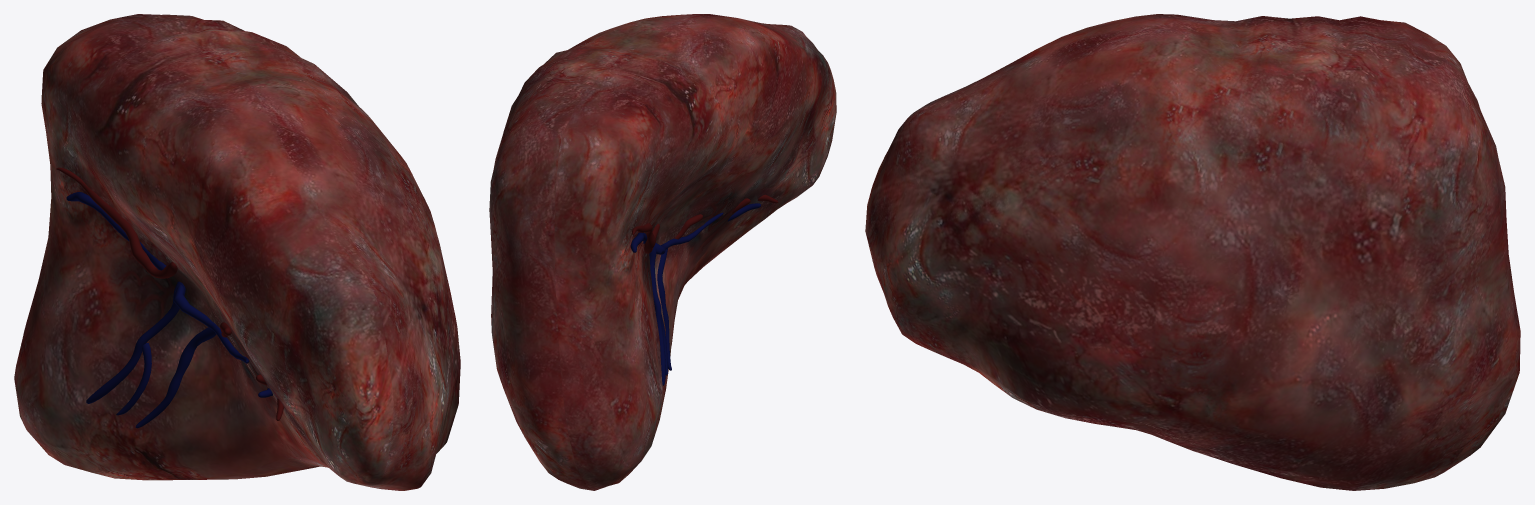
File: spleen.obj
3 renders of one model, left to right at view 1: azimuth 30°, elevation 25°; view 2: azimuth 150°, elevation 25°; view 3: azimuth 270°, elevation 25°, orthographic. The views are drawn at different scales.
Visible parts, largest first — view 1: Spleen; view 2: Spleen; view 3: Spleen.
Part boxes in pixels (<box>): Spleen: <box>14,14,460,490</box>; Spleen: <box>489,14,836,490</box>; Spleen: <box>865,14,1520,490</box>.
Bounding box in the file's own units: 0.737 × 1.16 × 1.55.
